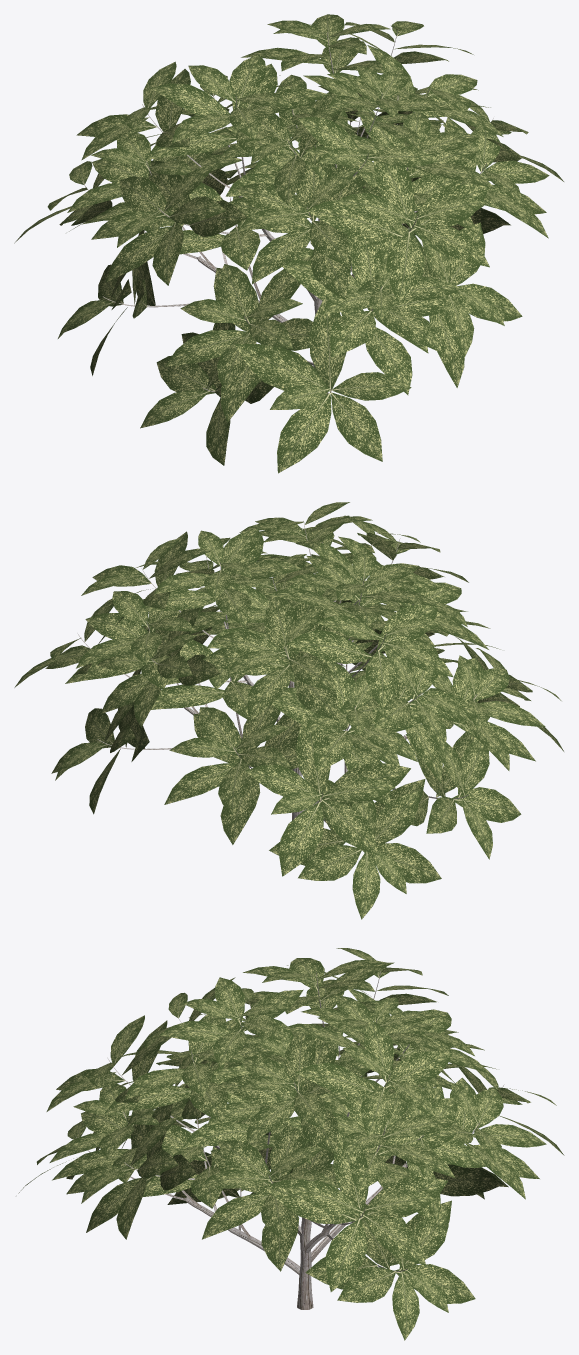
3 views of the same model, one above another, from view 1: azimuth 30°, elevation 25°; view 2: azimuth 150°, elevation 25°; view 3: azimuth 270°, elevation 25° (orthographic). The views are drawn at different scales.
Parts seen in each view (by area): view 1: Laurel03.obj.Shape_Leaf_0, Laurel03.obj.Shape_Branch_0; view 2: Laurel03.obj.Shape_Leaf_0, Laurel03.obj.Shape_Branch_0; view 3: Laurel03.obj.Shape_Leaf_0, Laurel03.obj.Shape_Branch_0, Laurel03.obj.Shape_Trunk_0.
Boxes of the visible parts, left/top/right/bottom form: Laurel03.obj.Shape_Leaf_0: left=14, top=14, right=563, bottom=473; Laurel03.obj.Shape_Branch_0: left=82, top=31, right=493, bottom=392; Laurel03.obj.Shape_Leaf_0: left=14, top=502, right=563, bottom=919; Laurel03.obj.Shape_Branch_0: left=77, top=521, right=511, bottom=822; Laurel03.obj.Shape_Leaf_0: left=18, top=948, right=564, bottom=1340; Laurel03.obj.Shape_Branch_0: left=76, top=970, right=504, bottom=1274; Laurel03.obj.Shape_Trunk_0: left=297, top=1217, right=313, bottom=1309.
Bounding box in the file's own units: 0.7566 × 0.5257 × 0.8262.
Materials: 2 (2 with a texture image).
